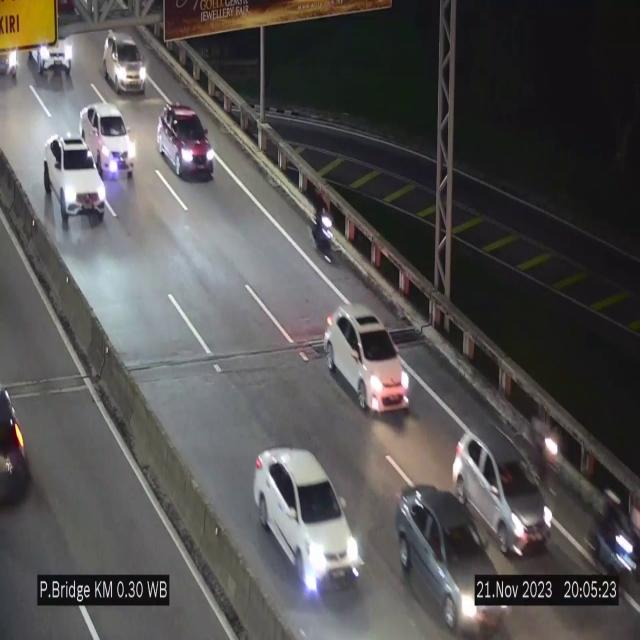Car: (396, 480, 507, 640), (253, 448, 361, 593), (456, 428, 556, 552), (325, 304, 409, 412), (39, 130, 109, 220), (158, 104, 214, 178), (81, 102, 133, 180), (103, 31, 146, 93)
Motorcycle: (588, 485, 637, 577), (530, 415, 558, 481), (311, 197, 335, 263)
